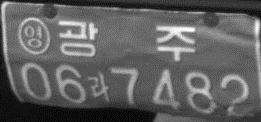0: (20, 63, 52, 101)
2: (219, 72, 255, 120)
4: (150, 69, 180, 111)
6: (55, 64, 87, 104)
7: (110, 66, 140, 107)
8: (184, 70, 217, 115)
광주_D: (57, 20, 196, 61)
라: (87, 72, 110, 103)
영: (16, 15, 51, 56)
